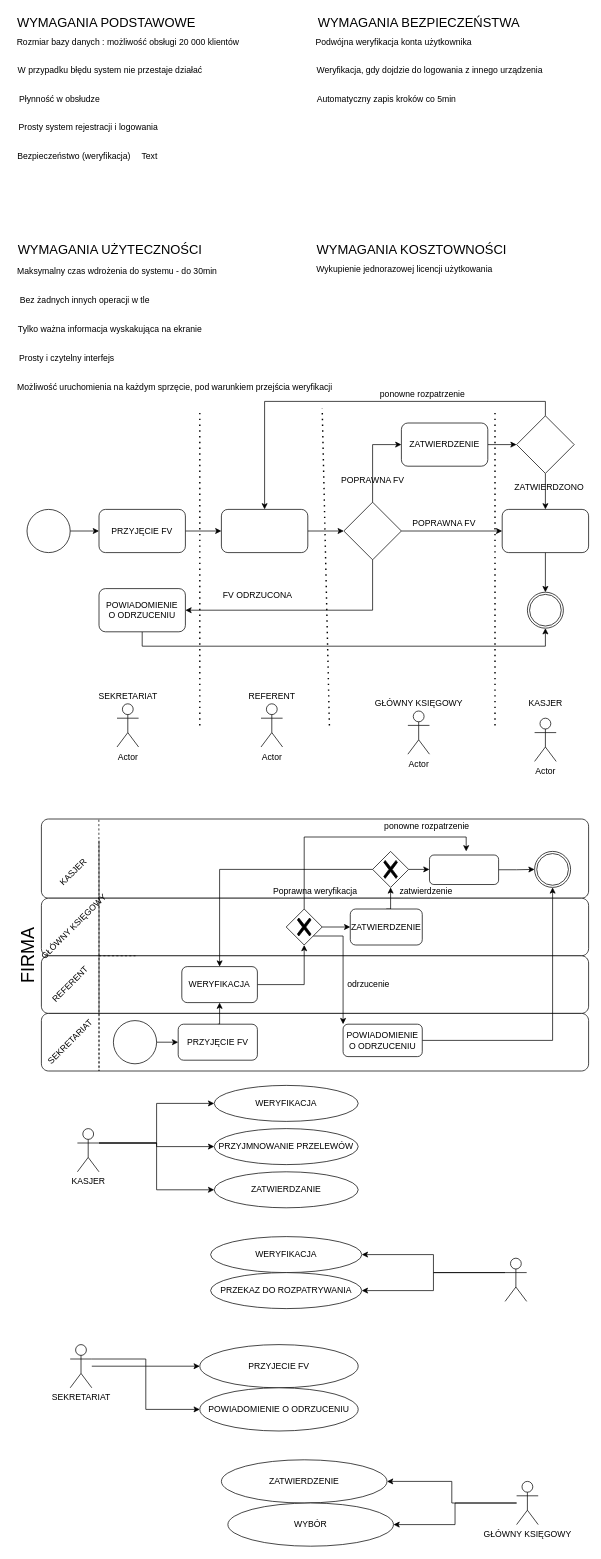
This 601x1559 diagram has some shape labels left out. The centre of each missing label's shape, as x and y in pixels:
"PRZELEW PRZYJĘTY" goes at pixel 545 531.
"PRZYJĘCIE PRZELEWU" goes at pixel 464 869.
"REFERANT" goes at pixel 515 1279.
"WERYFIKACJA ZASADNOŚCI" goes at pixel 264 531.
